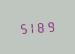eight: (36, 20, 44, 33)
five: (18, 21, 26, 34)
nine: (45, 19, 53, 32)
one: (27, 20, 35, 34)
